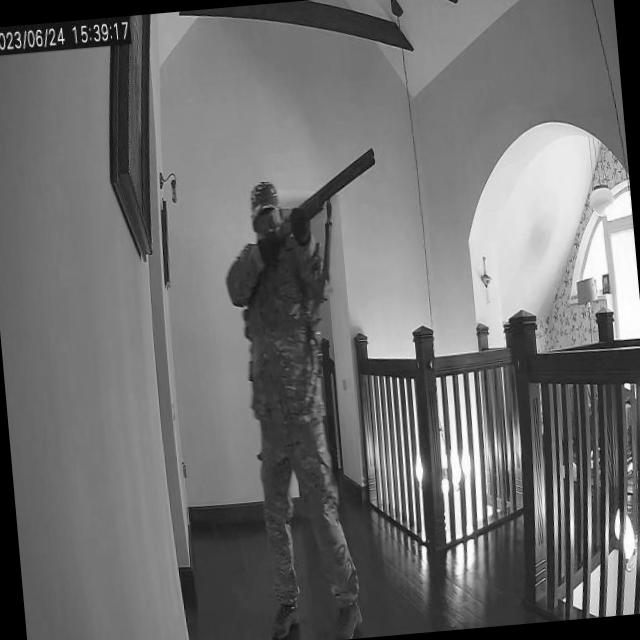gun: (252, 145, 382, 230)
person with a gun: (220, 145, 416, 640)
